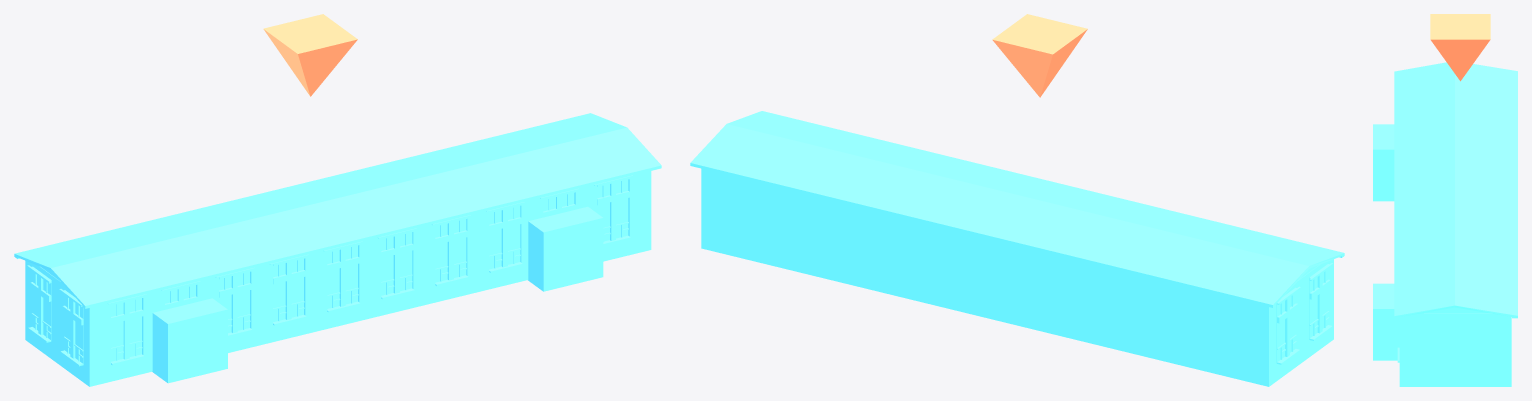
The picture shows the model from 3 angles, left to right: view 1: azimuth 30°, elevation 25°; view 2: azimuth 150°, elevation 25°; view 3: azimuth 270°, elevation 25°; orthographic projection. The views are drawn at different scales.
Parts seen in each view (by area): view 1: subject, fire-mark; view 2: subject, fire-mark; view 3: subject, fire-mark.
Boxes of the visible parts, bbox=[...] form: subject: bbox=[14, 113, 661, 386]; fire-mark: bbox=[263, 14, 357, 96]; subject: bbox=[690, 111, 1344, 386]; fire-mark: bbox=[992, 14, 1087, 97]; subject: bbox=[1373, 62, 1517, 386]; fire-mark: bbox=[1430, 14, 1490, 81].
Size of the model in its own units: 56.03 by 24.65 by 14.
